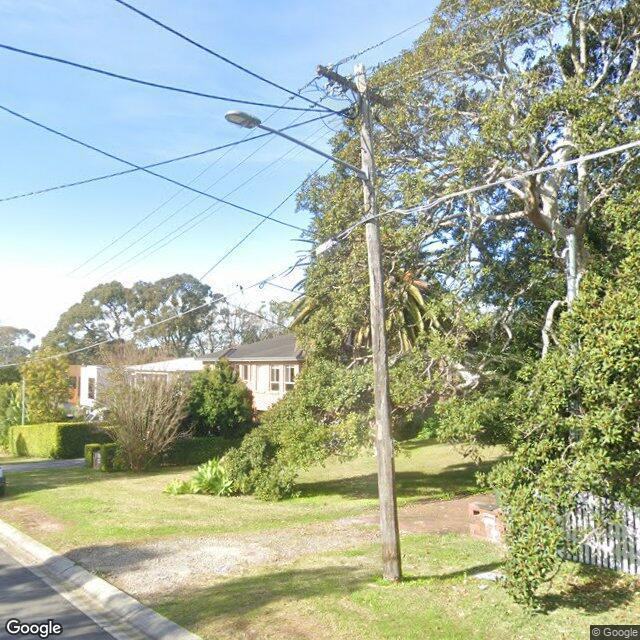crossarm: (316, 63, 396, 109)
streetlight: (224, 111, 370, 180)
timber-pole: (353, 62, 402, 582)
